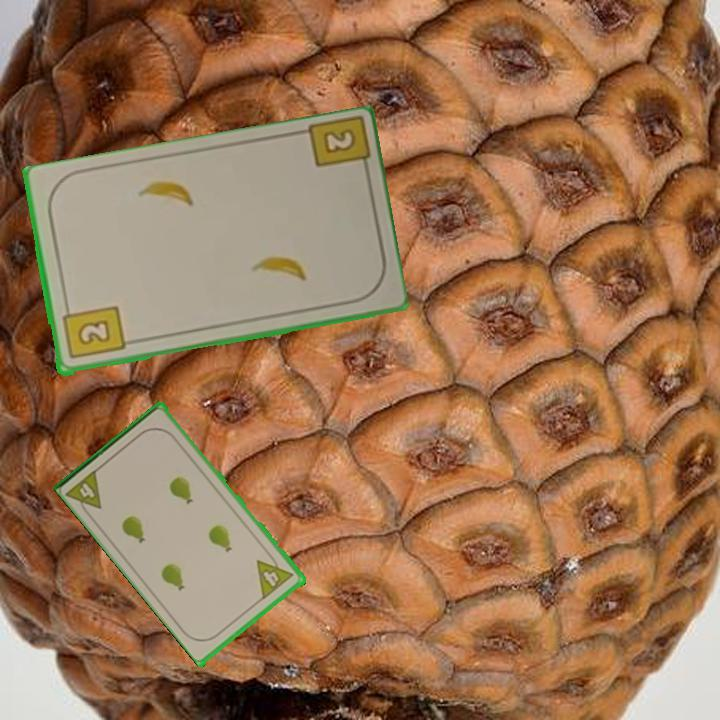2b: (302, 115, 372, 180), (59, 301, 127, 363)
4p: (253, 549, 297, 602), (63, 465, 105, 520)
